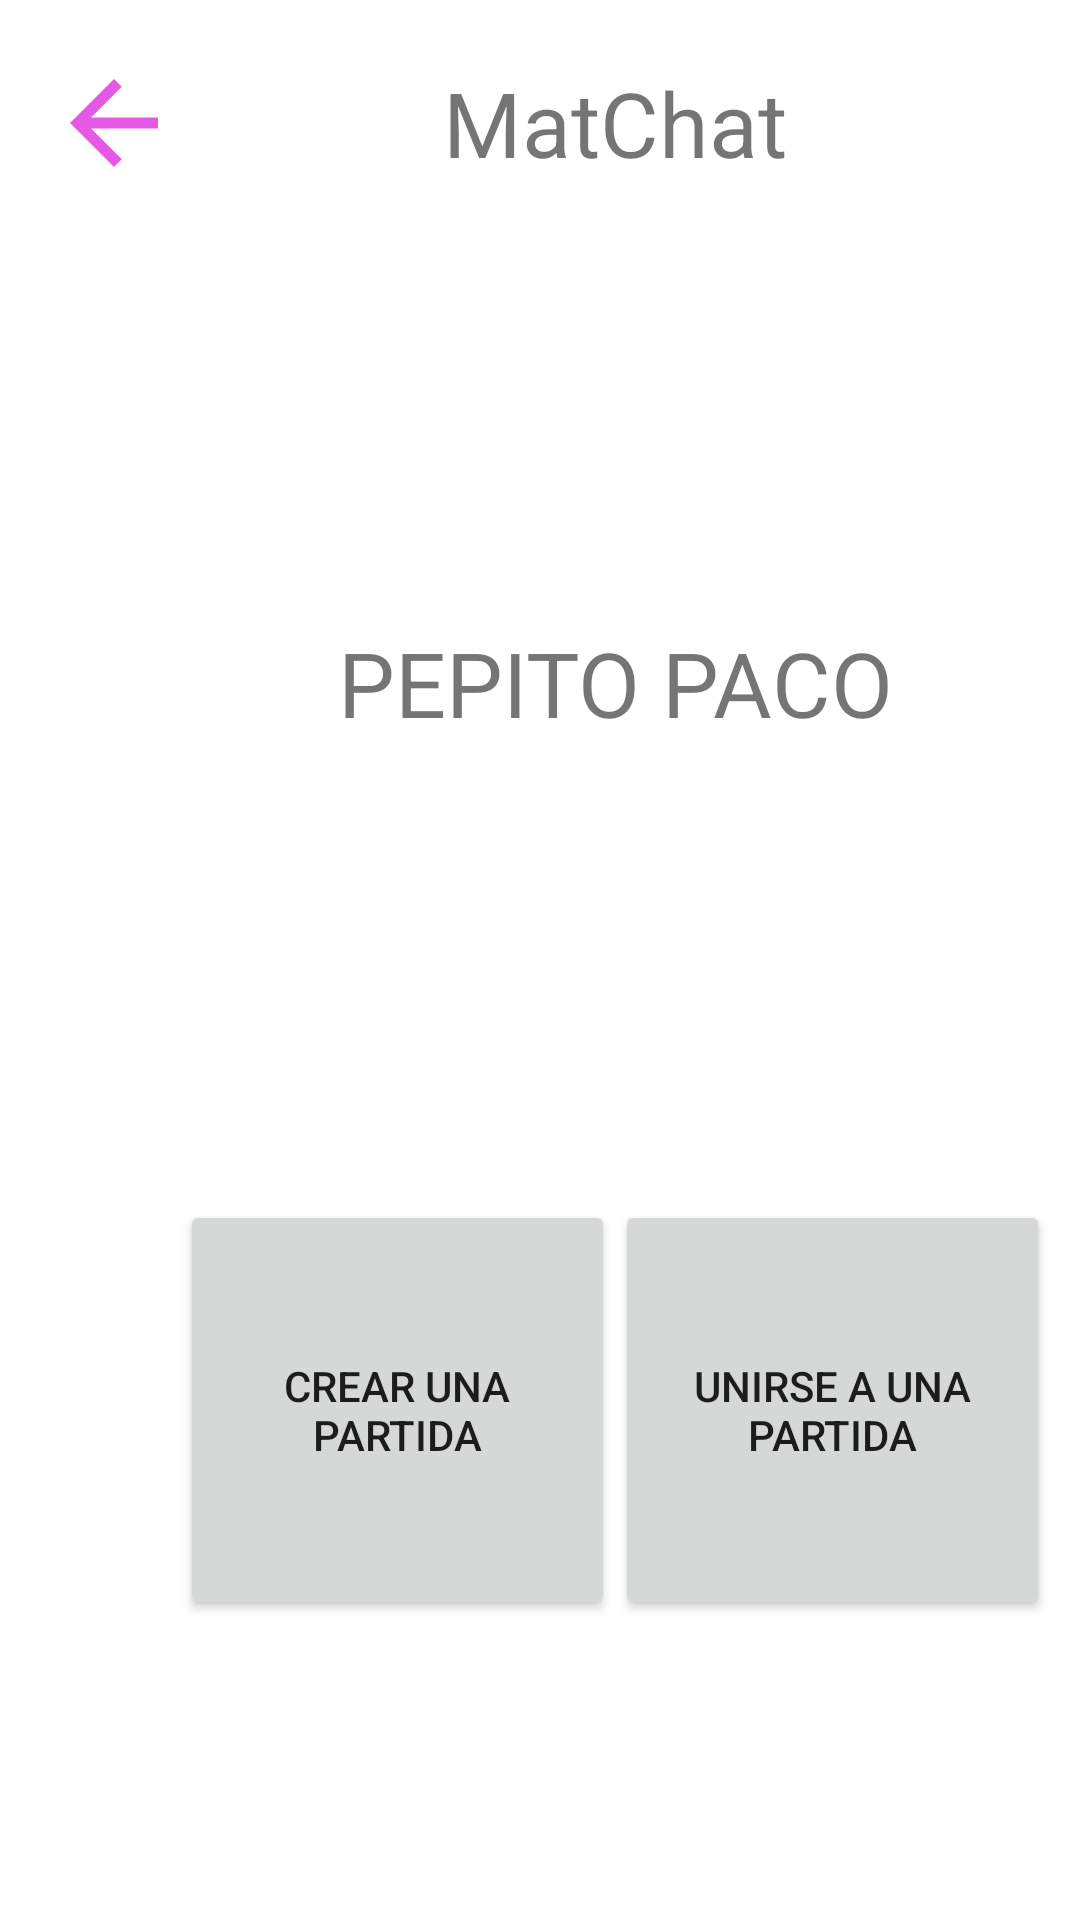

Locate icon controls on the screen. Image size 1080px x 1920px, boxes as (x1, y1, x2, y2).
arrow back: (70, 79, 158, 167)
